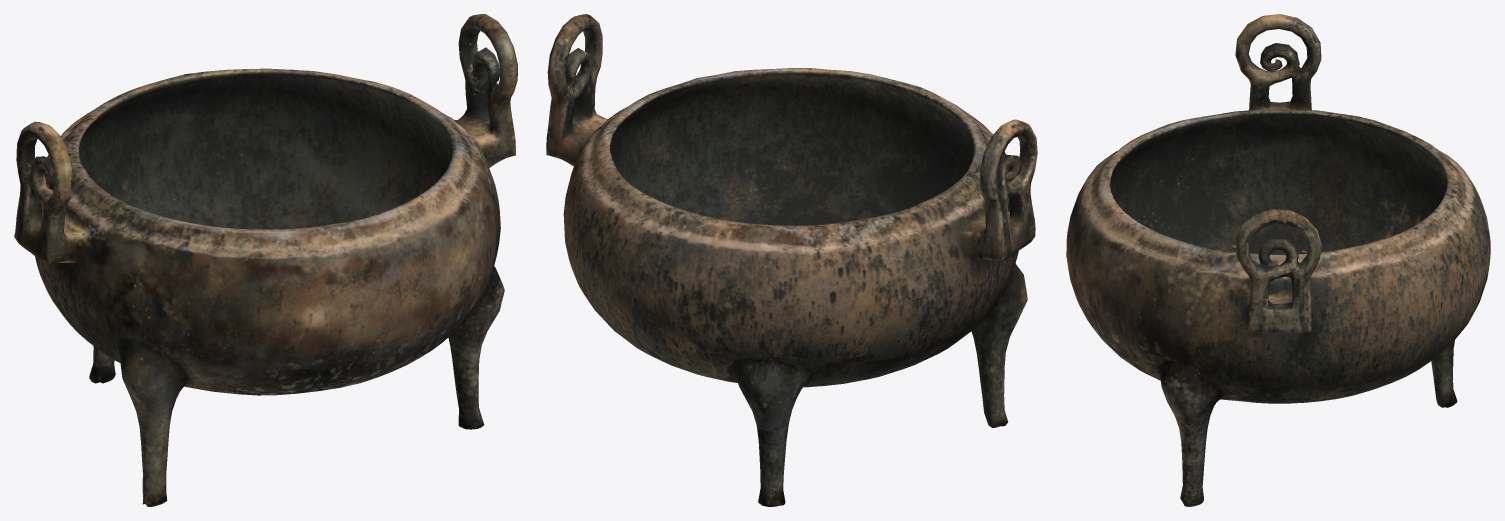
The model's file is 03-han-changyi-ding.glb.
3 renders of one model, left to right at view 1: azimuth 30°, elevation 25°; view 2: azimuth 150°, elevation 25°; view 3: azimuth 270°, elevation 25°, orthographic. The views are drawn at different scales.
Visible parts, largest first — view 1: Retopo_Mesh_0:001; view 2: Retopo_Mesh_0:001; view 3: Retopo_Mesh_0:001.
Boxes of the visible parts, bbox=[...] form: Retopo_Mesh_0:001: bbox=[14, 14, 517, 506]; Retopo_Mesh_0:001: bbox=[546, 14, 1037, 506]; Retopo_Mesh_0:001: bbox=[1066, 14, 1490, 506].
Bounding box in the file's own units: 1.89 × 1.38 × 1.64.
1 material, 1 textured.
